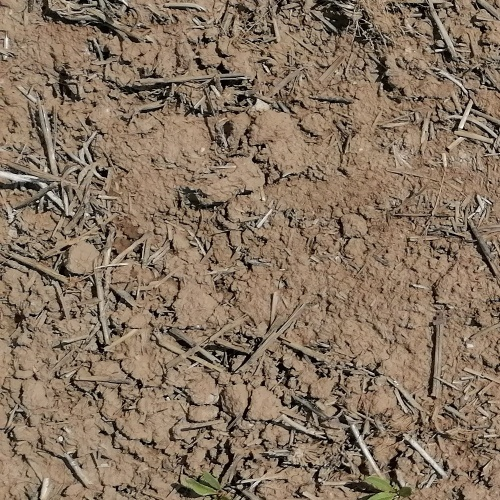beet: (180, 472, 231, 500), (365, 479, 413, 500)
